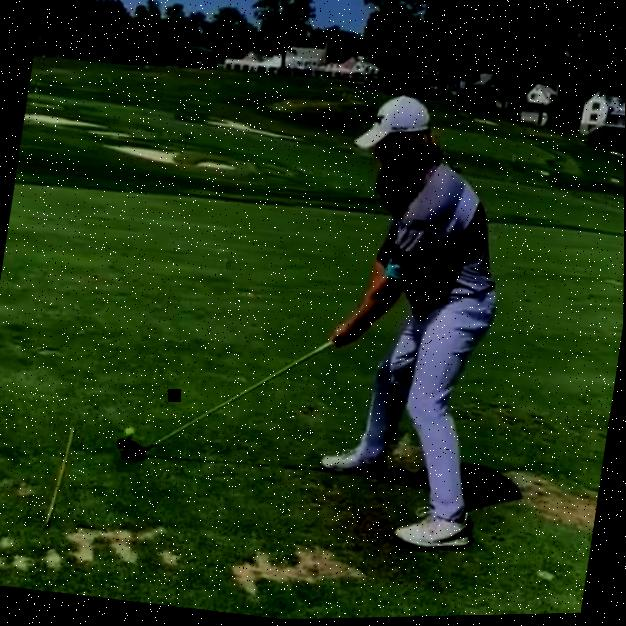ClubHead: (117, 438, 149, 463)
GolfBall: (123, 427, 136, 437)
